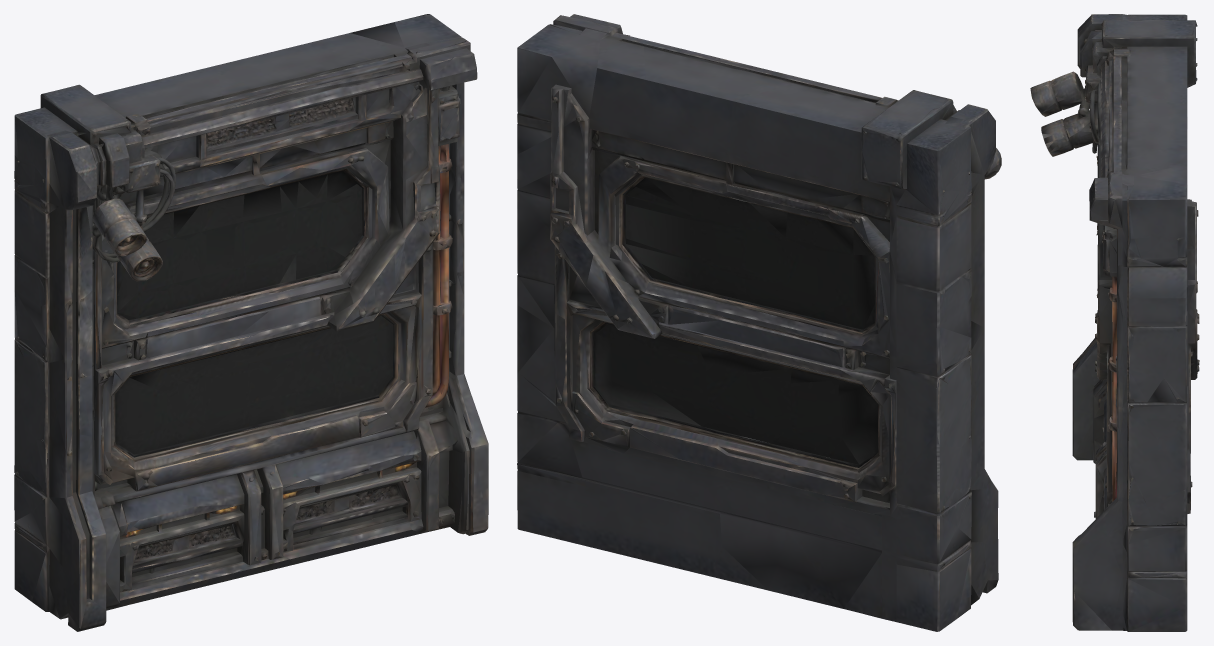
Rendered from SurveillanceCableBay.glb.
The picture shows the model from 3 angles, left to right: view 1: azimuth 30°, elevation 25°; view 2: azimuth 150°, elevation 25°; view 3: azimuth 270°, elevation 25°; orthographic projection. The views are drawn at different scales.
Parts seen in each view (by area): view 1: tripo_node_67a9b9b4-2142-4e04-a5ad-bc65d33bcefc; view 2: tripo_node_67a9b9b4-2142-4e04-a5ad-bc65d33bcefc; view 3: tripo_node_67a9b9b4-2142-4e04-a5ad-bc65d33bcefc.
Boxes of the visible parts, <box> form: tripo_node_67a9b9b4-2142-4e04-a5ad-bc65d33bcefc: <box>14,14,488,631</box>; tripo_node_67a9b9b4-2142-4e04-a5ad-bc65d33bcefc: <box>517,14,1001,631</box>; tripo_node_67a9b9b4-2142-4e04-a5ad-bc65d33bcefc: <box>1030,14,1199,631</box>.
Bounding box in the file's own units: 0.885 × 0.98 × 0.3396.
1 material, 1 textured.
